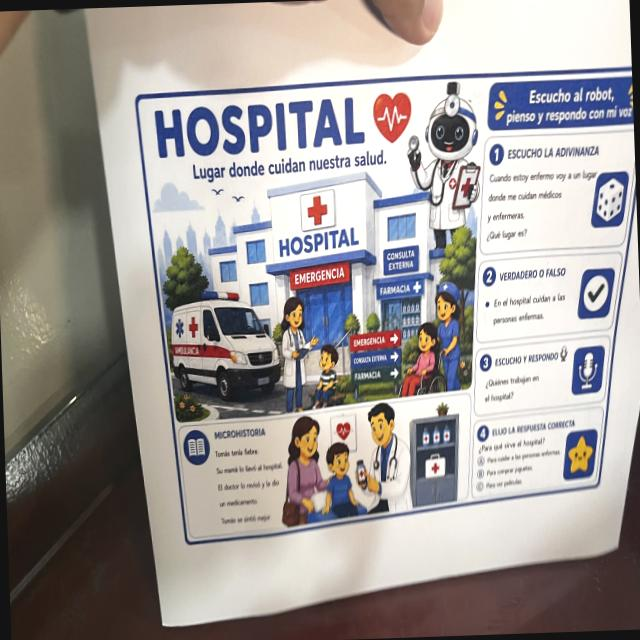hospital: (131, 62, 640, 551)
